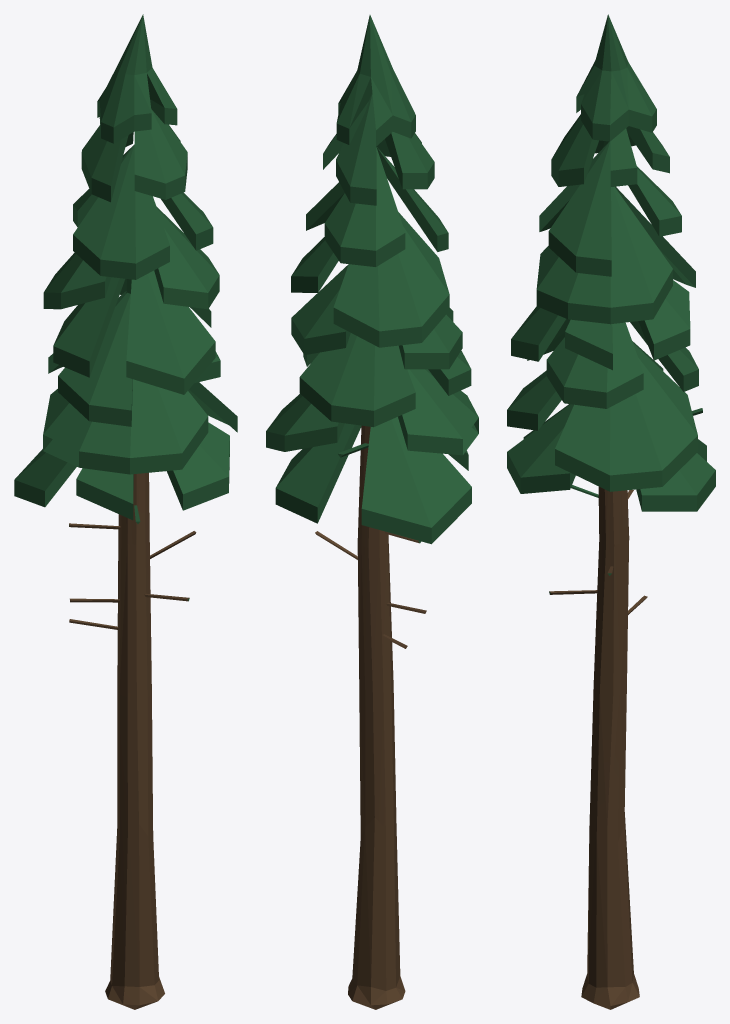
File: tree7.fbx
3 renders of one model, left to right at view 1: azimuth 30°, elevation 25°; view 2: azimuth 150°, elevation 25°; view 3: azimuth 270°, elevation 25°, orthographic.
Parts seen in each view (by area): view 1: polySurface15314; view 2: polySurface15314; view 3: polySurface15314.
Part boxes in pixels (x1,y1,x2,y2): polySurface15314: (14,14,237,1009); polySurface15314: (266,15,478,1009); polySurface15314: (507,14,715,1009).
Size of the model in its own units: 156 by 793 by 150.
